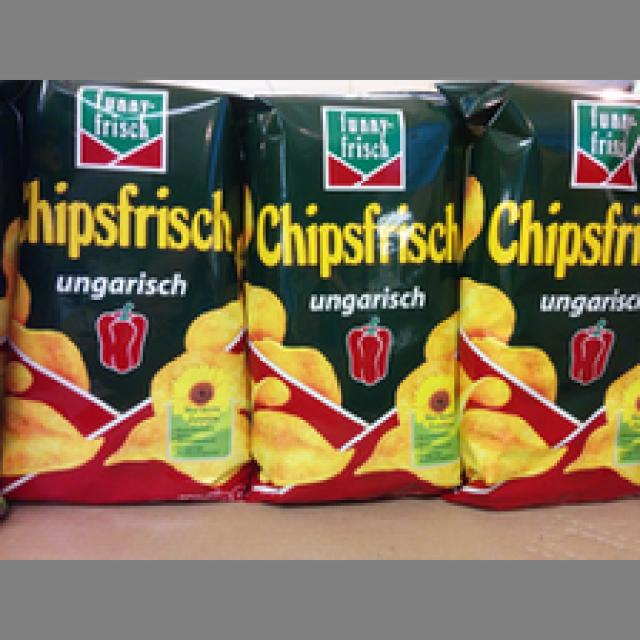groceries: (0, 80, 243, 506), (243, 83, 457, 500), (454, 83, 637, 514)
